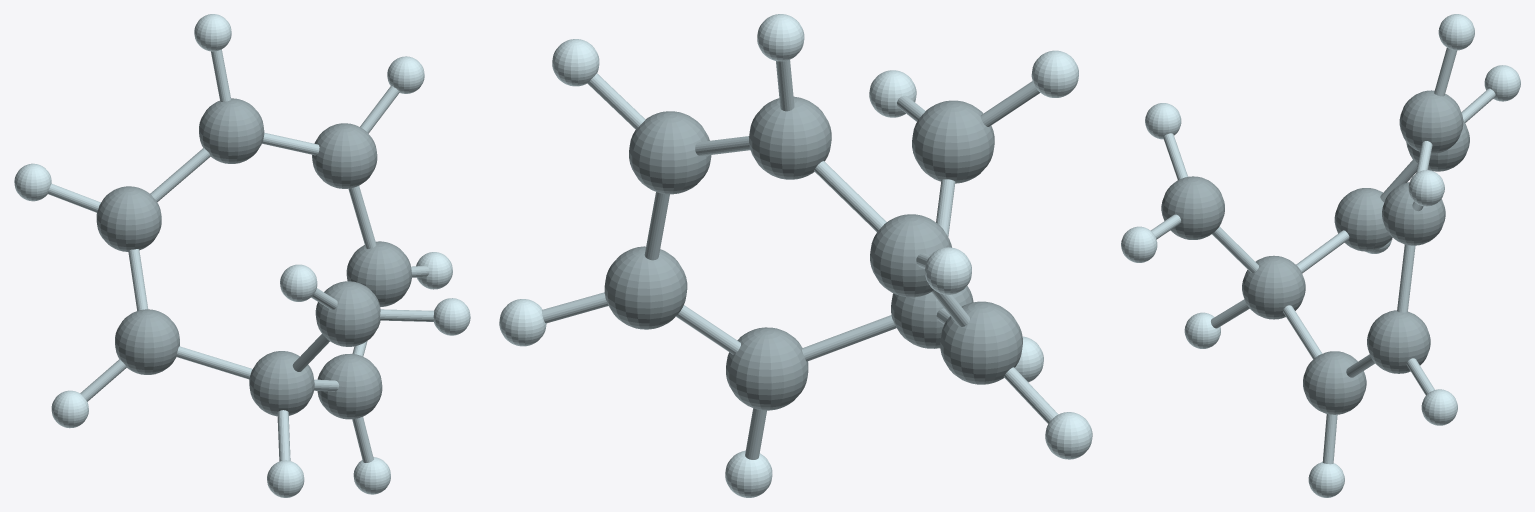
Rendered from irc_step_256.glb.
The picture shows the model from 3 angles, left to right: view 1: azimuth 30°, elevation 25°; view 2: azimuth 150°, elevation 25°; view 3: azimuth 270°, elevation 25°; orthographic projection. The views are drawn at different scales.
Parts seen in each view (by area): view 1: Renderer Node; view 2: Renderer Node; view 3: Renderer Node.
Boxes of the visible parts, x1,y1,x2,y2 form: Renderer Node: (14,14,470,497); Renderer Node: (499,14,1092,497); Renderer Node: (1121,14,1520,497).
Bounding box in the file's own units: 5.28 × 5.28 × 4.38.
